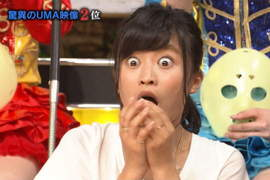face: (114, 42, 185, 123)
